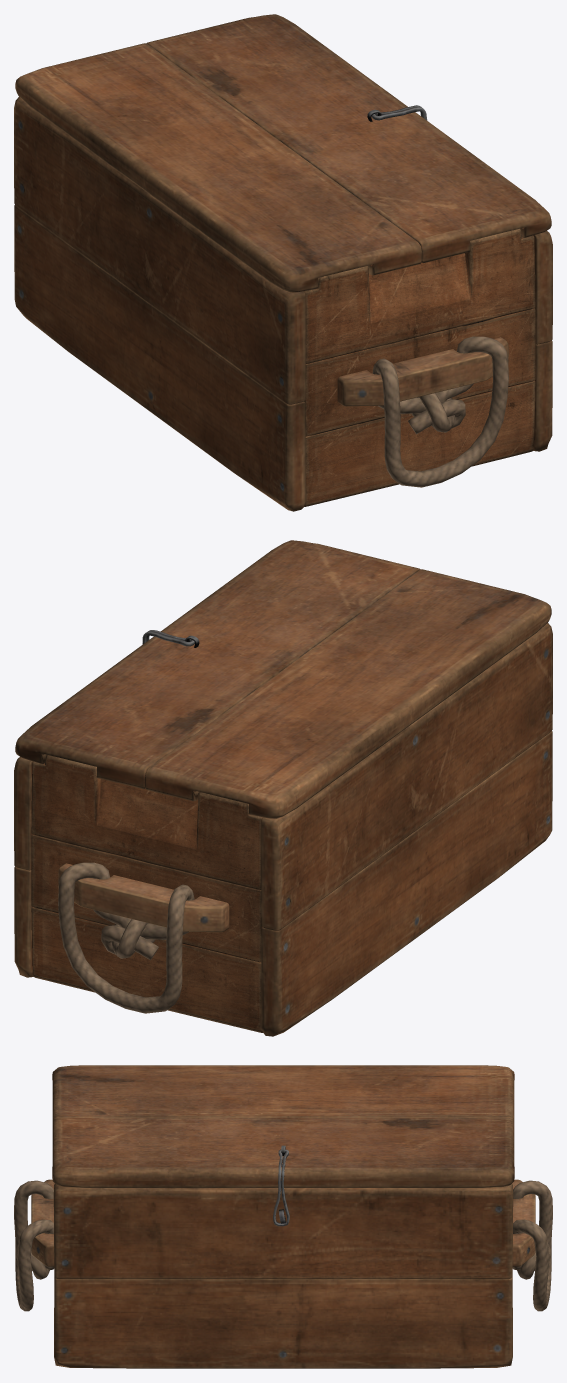
Rendered from wooden_crate_01_2k.gltf.
3 views of the same model, one above another, from view 1: azimuth 30°, elevation 25°; view 2: azimuth 150°, elevation 25°; view 3: azimuth 270°, elevation 25° (orthographic). The views are drawn at different scales.
Visible parts, largest first — view 1: wooden_crate_01, wooden_crate_01_lid; view 2: wooden_crate_01, wooden_crate_01_lid; view 3: wooden_crate_01, wooden_crate_01_lid, wooden_crate_01_latch.
Boxes of the visible parts, <box> form: wooden_crate_01: <box>14,97,552,511</box>; wooden_crate_01_lid: <box>15,14,551,292</box>; wooden_crate_01: <box>14,623,552,1036</box>; wooden_crate_01_lid: <box>15,540,551,818</box>; wooden_crate_01: <box>14,1179,552,1368</box>; wooden_crate_01_lid: <box>52,1065,514,1187</box>; wooden_crate_01_latch: <box>273,1149,289,1226</box>.
Size of the model in its own units: 0.409 by 0.3496 by 0.8253.
Materials: 1 (1 with a texture image).
